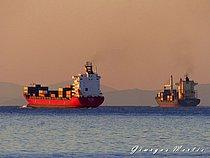Ship: (18, 56, 109, 111), (149, 68, 205, 112)
